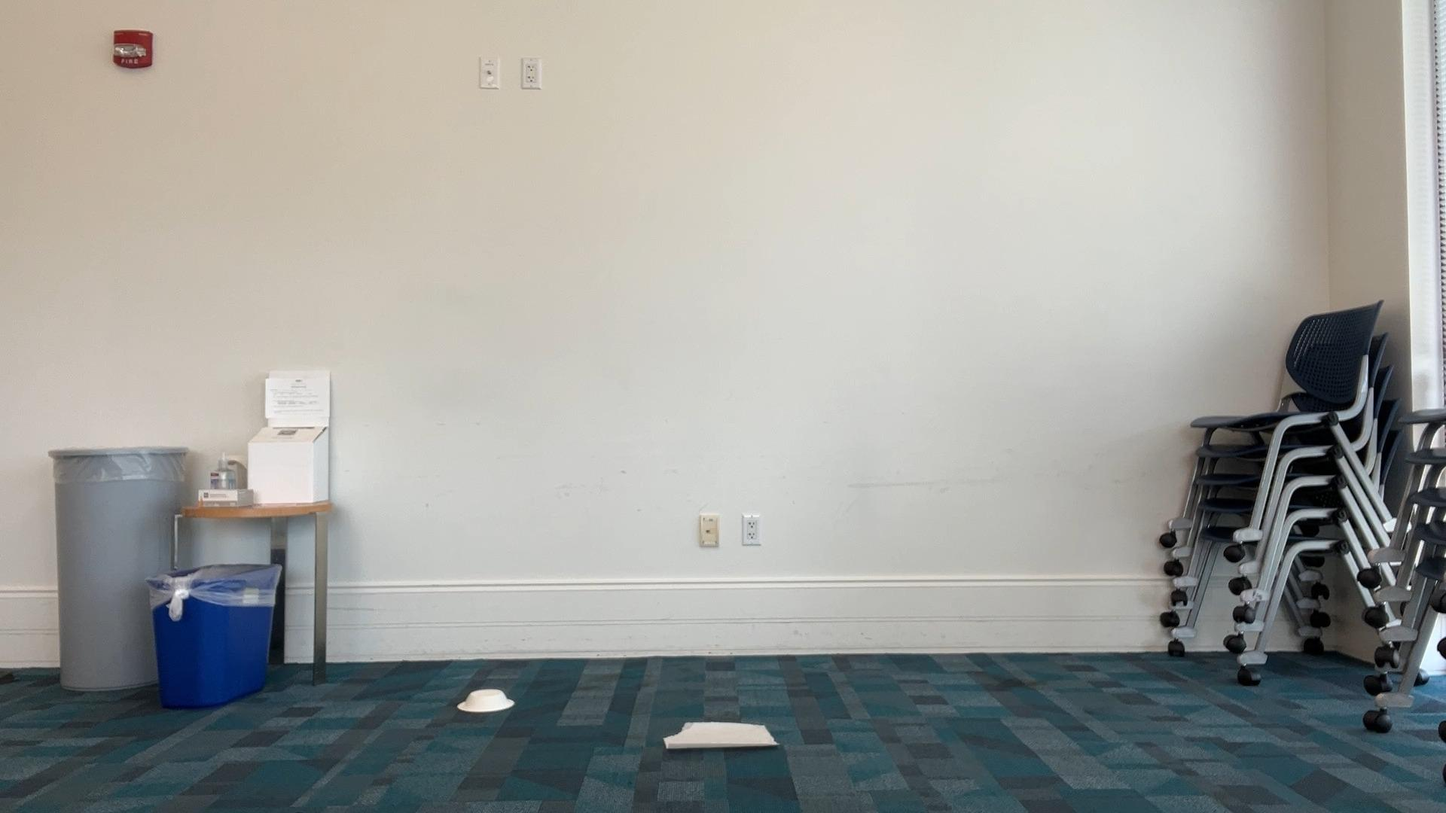Trash: (648, 699, 787, 765), (442, 669, 532, 726)
